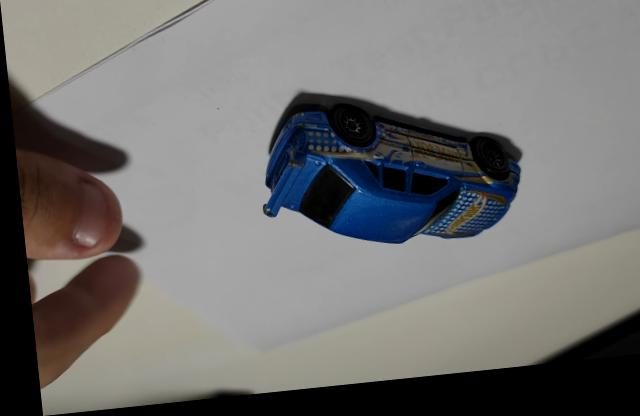04_MERZEDES: (256, 96, 519, 251)
